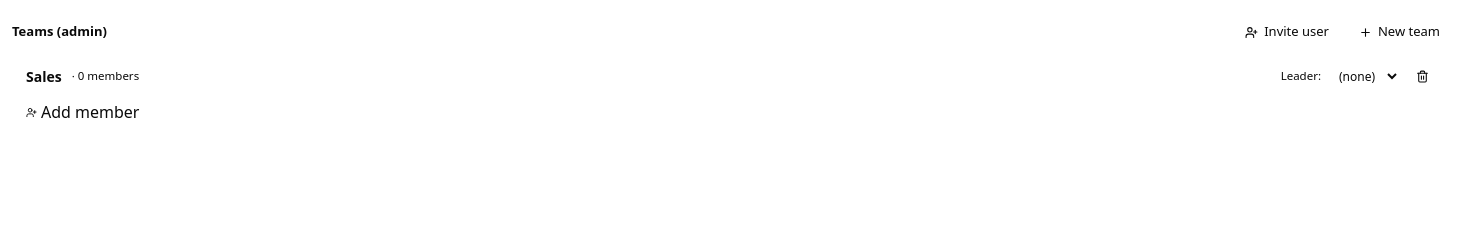
Test: AdminTeamsPanel › shows the Invite user form when 'Invite user' is clicked
Click the button "Invite user" at (1287, 32), box left=1233, top=16, right=1341, bottom=48
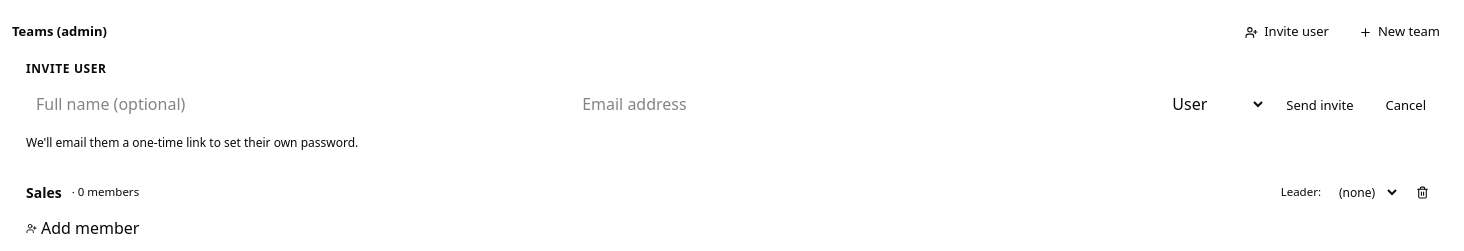
Expected: the field with placeholder "Email address" is shown, left=572, top=86, right=1150, bottom=122
